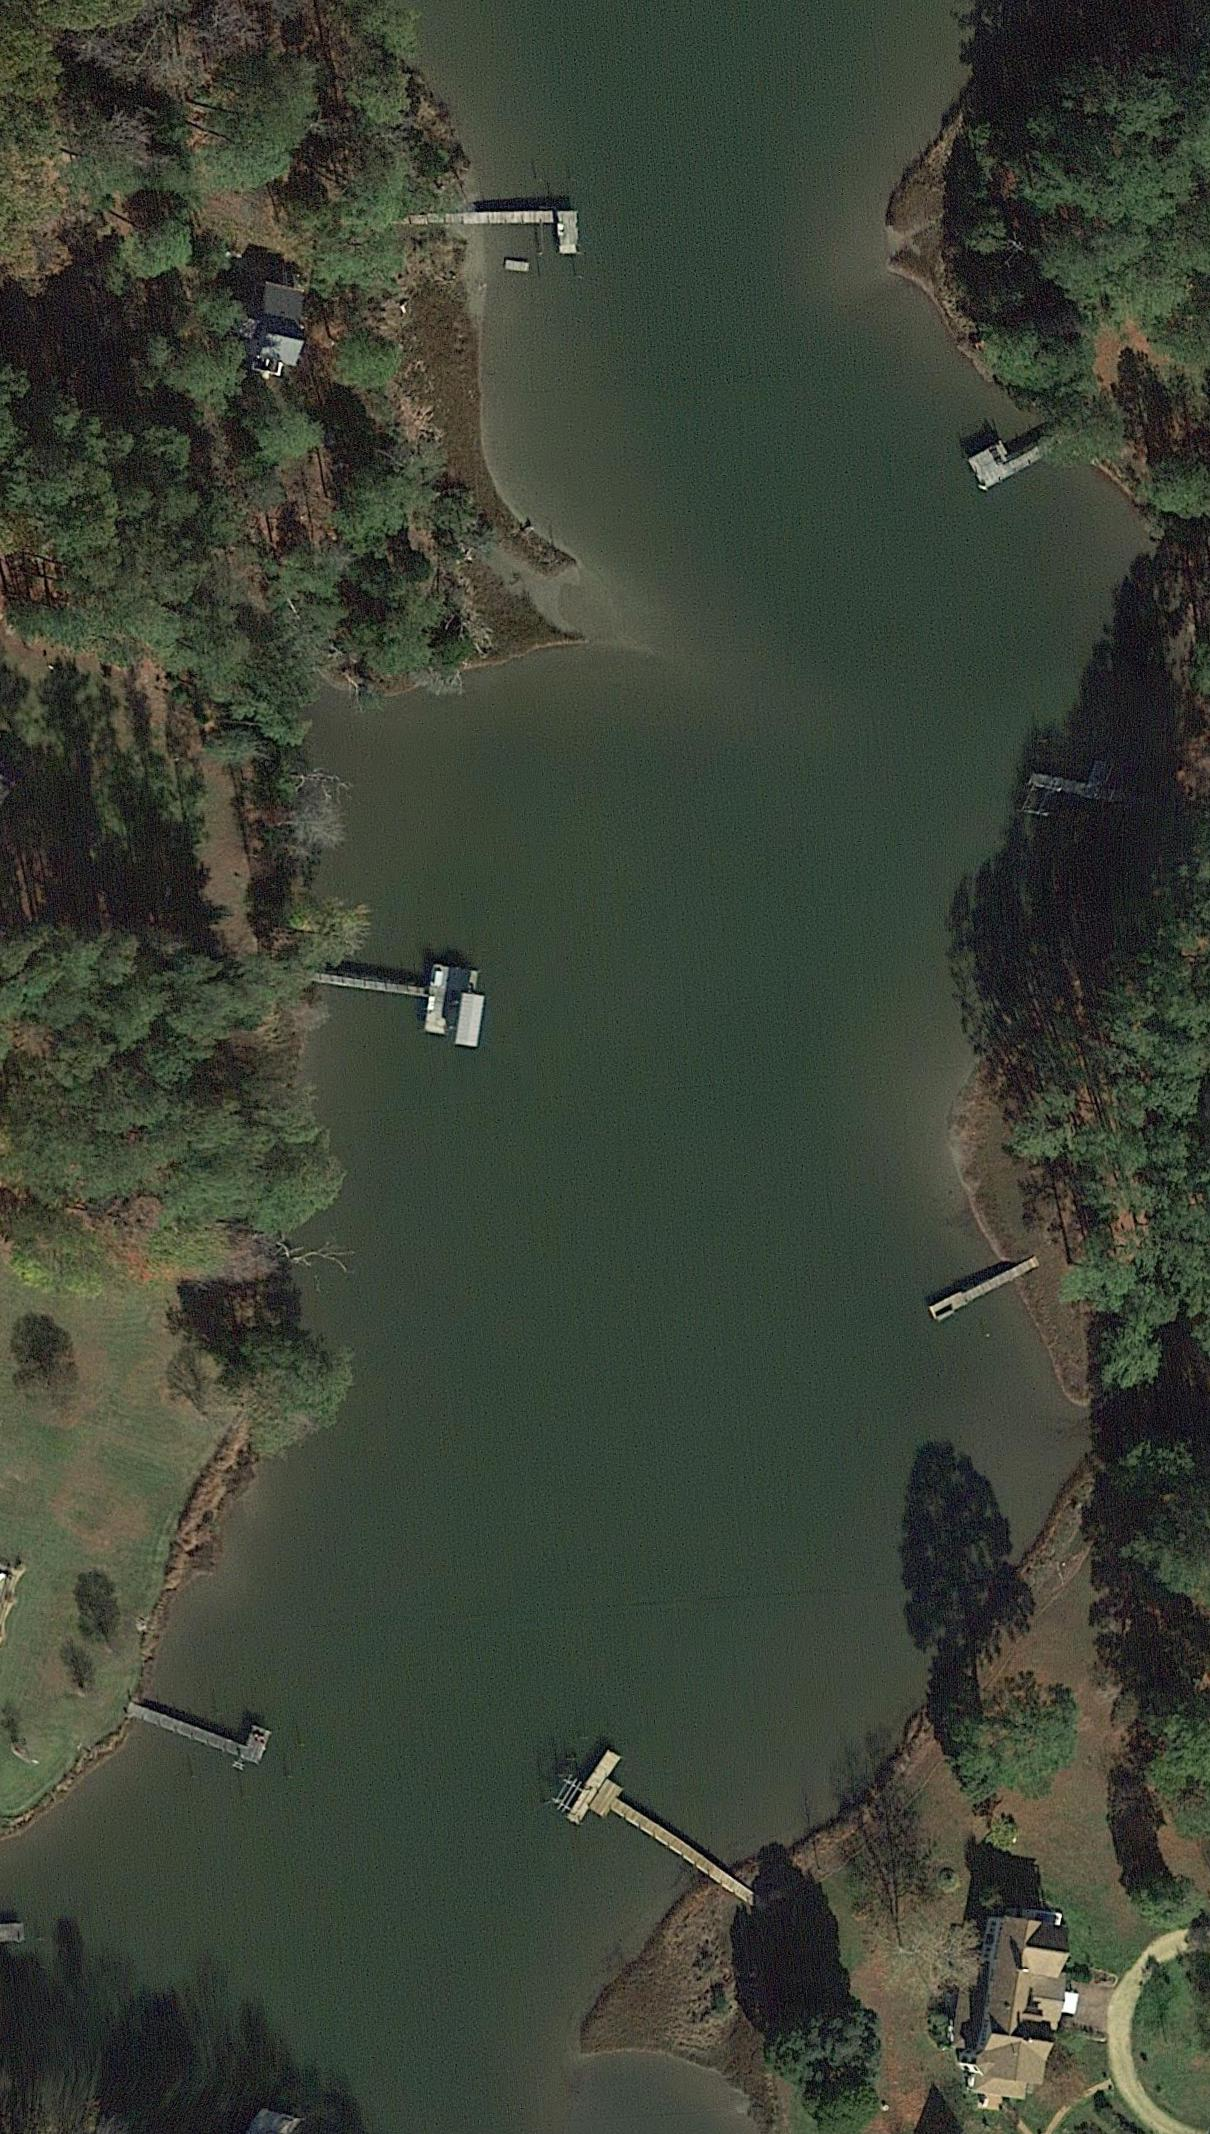harbor: (565, 1748, 751, 1894), (319, 946, 493, 1049), (151, 1691, 272, 1764), (968, 413, 1069, 493), (928, 1261, 1017, 1326), (477, 209, 582, 259)
